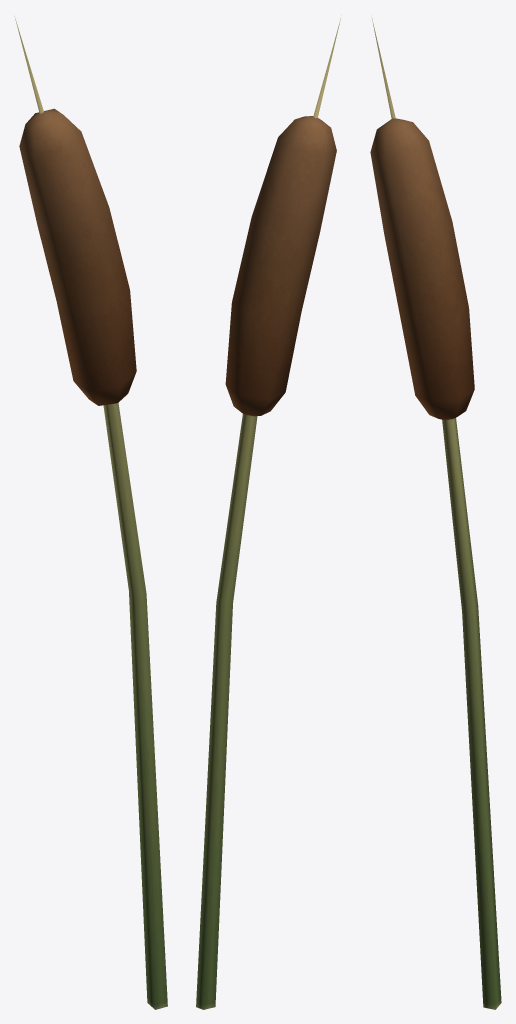
The model's file is Cattail_4.glb.
3 renders of one model, left to right at view 1: azimuth 30°, elevation 25°; view 2: azimuth 210°, elevation 25°; view 3: azimuth 330°, elevation 25°, orthographic. The views are drawn at different scales.
Visible parts, largest first — view 1: Sphere.023, Cube.079; view 2: Sphere.023, Cube.079; view 3: Sphere.023, Cube.079.
Part boxes in pixels (bbox=[...]): Sphere.023: bbox=[19, 108, 136, 405]; Cube.079: bbox=[14, 16, 167, 1009]; Sphere.023: bbox=[225, 116, 336, 416]; Cube.079: bbox=[196, 18, 340, 1009]; Sphere.023: bbox=[370, 118, 474, 420]; Cube.079: bbox=[371, 17, 501, 1009].
Bounding box in the file's own units: 0.1156 × 0.786 × 0.0515.
2 materials, 2 textured.
